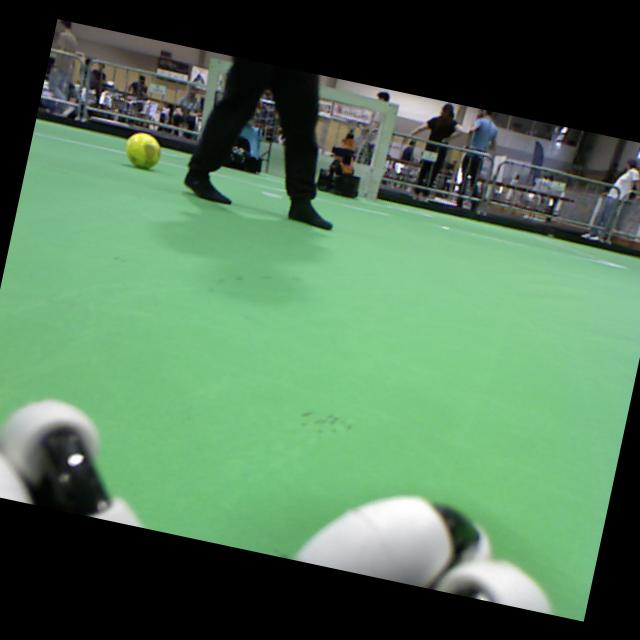ball: (126, 133, 160, 168)
goal: (366, 103, 397, 201), (195, 57, 222, 146)
robot: (317, 117, 358, 196)
